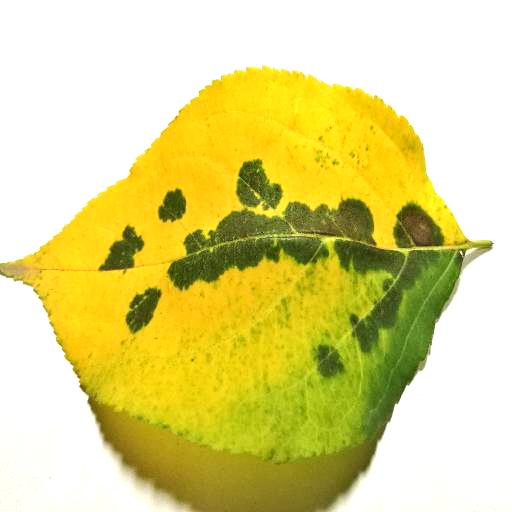Brown_Spot: (273, 187, 366, 244), (378, 201, 449, 250)
